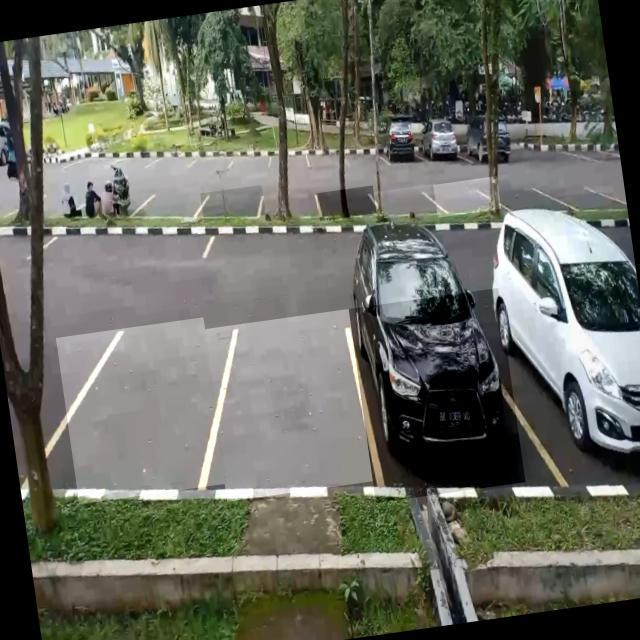empty: (203, 308, 375, 502), (56, 317, 227, 504), (434, 176, 502, 218), (258, 186, 324, 225), (200, 184, 266, 223), (142, 186, 206, 226), (374, 183, 441, 220), (316, 186, 377, 220)
occupied: (348, 288, 526, 503), (495, 268, 640, 492), (419, 120, 464, 167), (380, 120, 422, 167)
